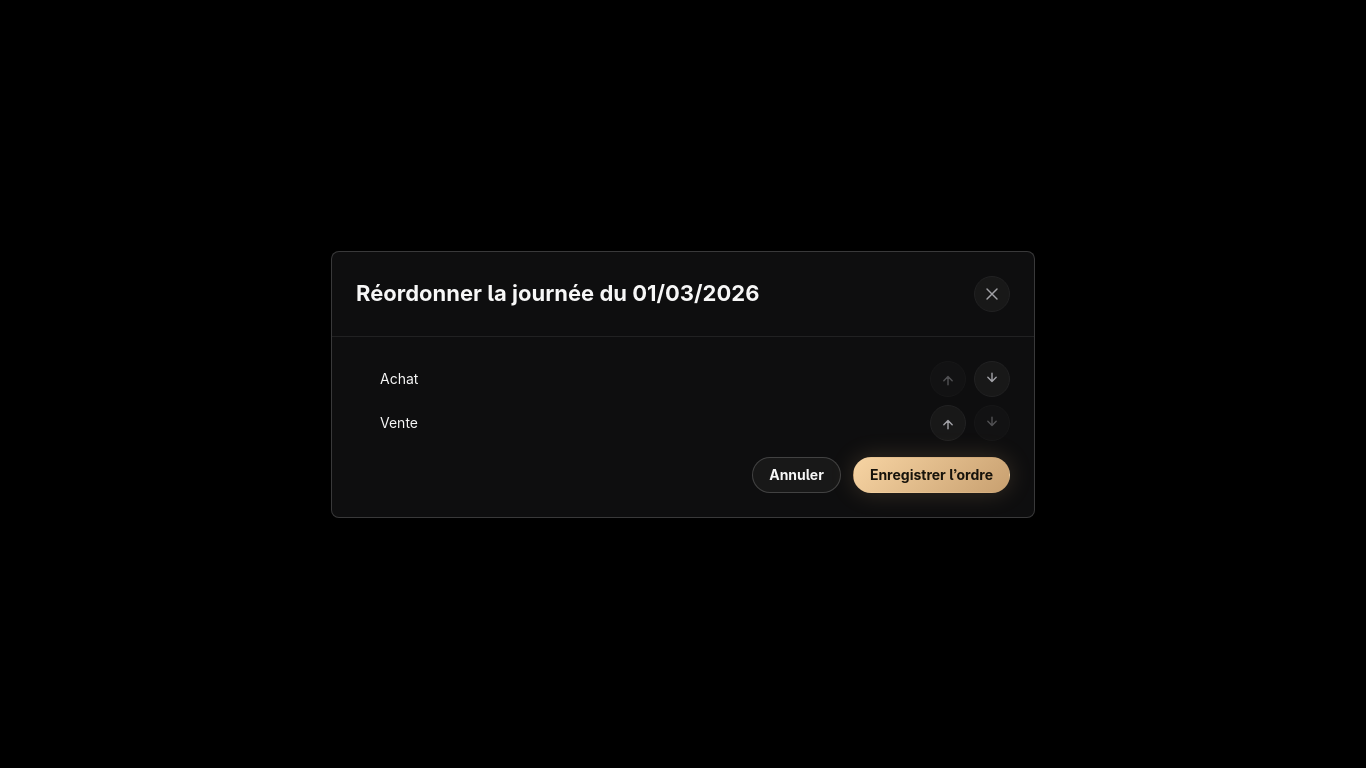
ReorderDayModal › reports a stale set, refetches it and resets the displayed order
Step 1. Click the button named "Descendre Achat" → [992, 378], box [974, 360, 1010, 396]
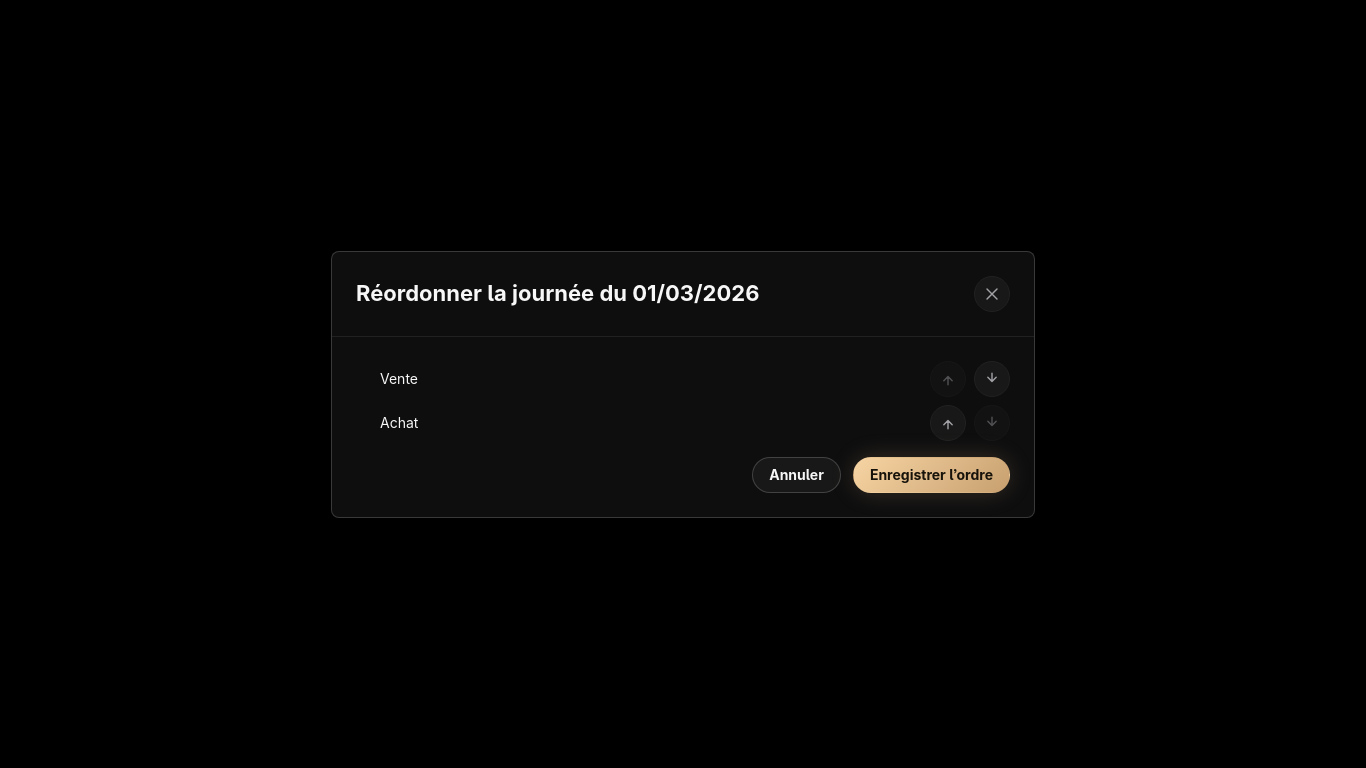
Step 2. Click the button "Enregistrer l’ordre" → [931, 474], box [853, 456, 1010, 492]
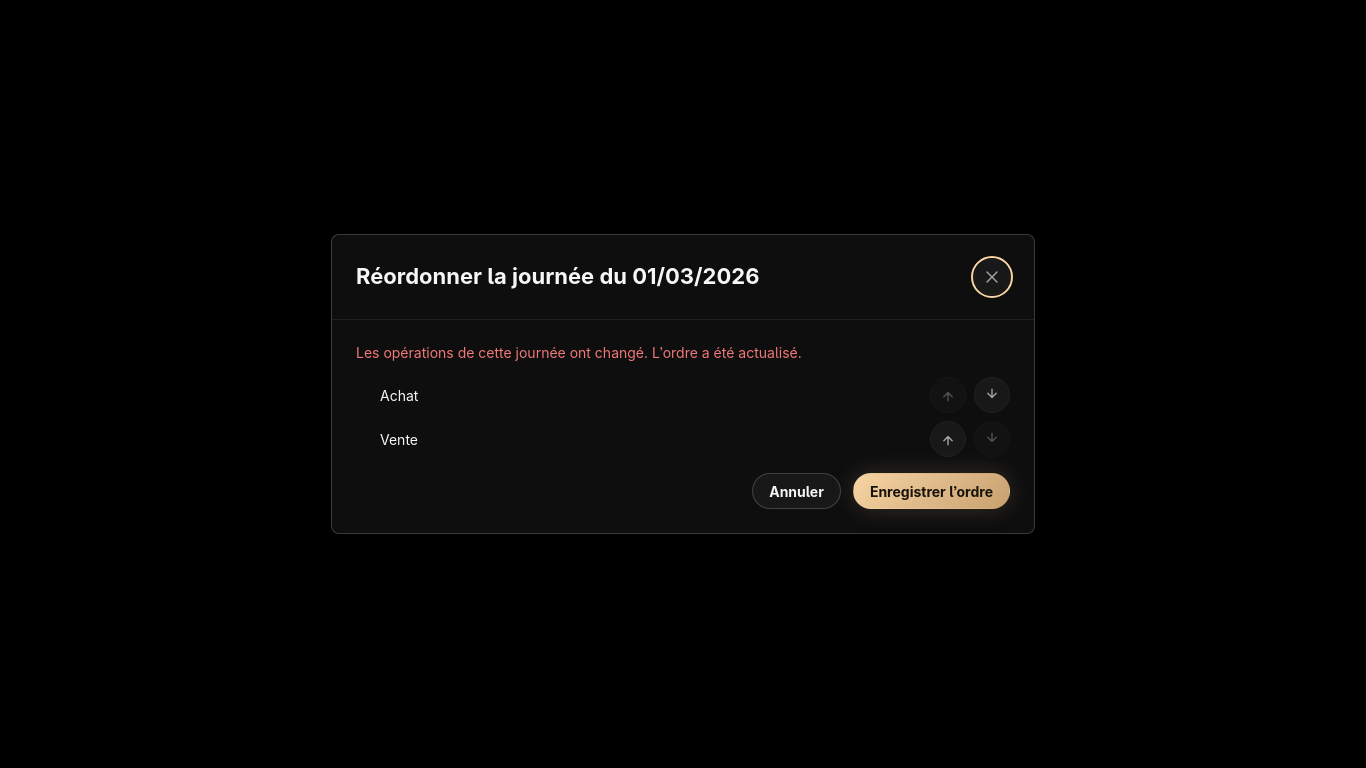
Now the text "Les opérations de cette journée ont changé. L’ordre a été actualisé." is shown, box [356, 344, 802, 361]
